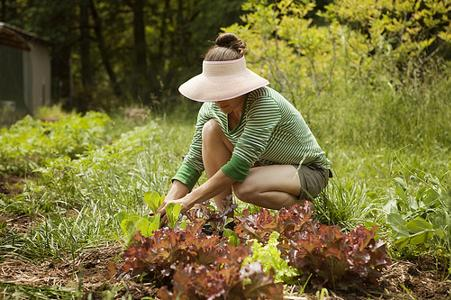person: (157, 35, 337, 223)
